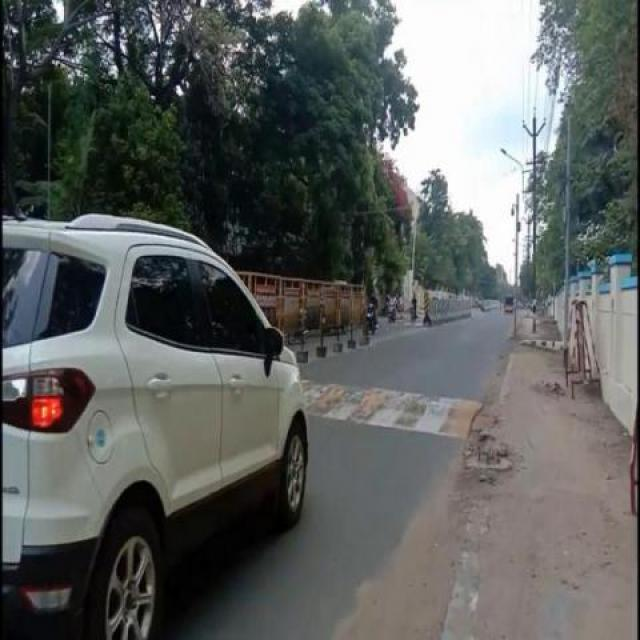Speed Bump: (306, 380, 485, 438)
